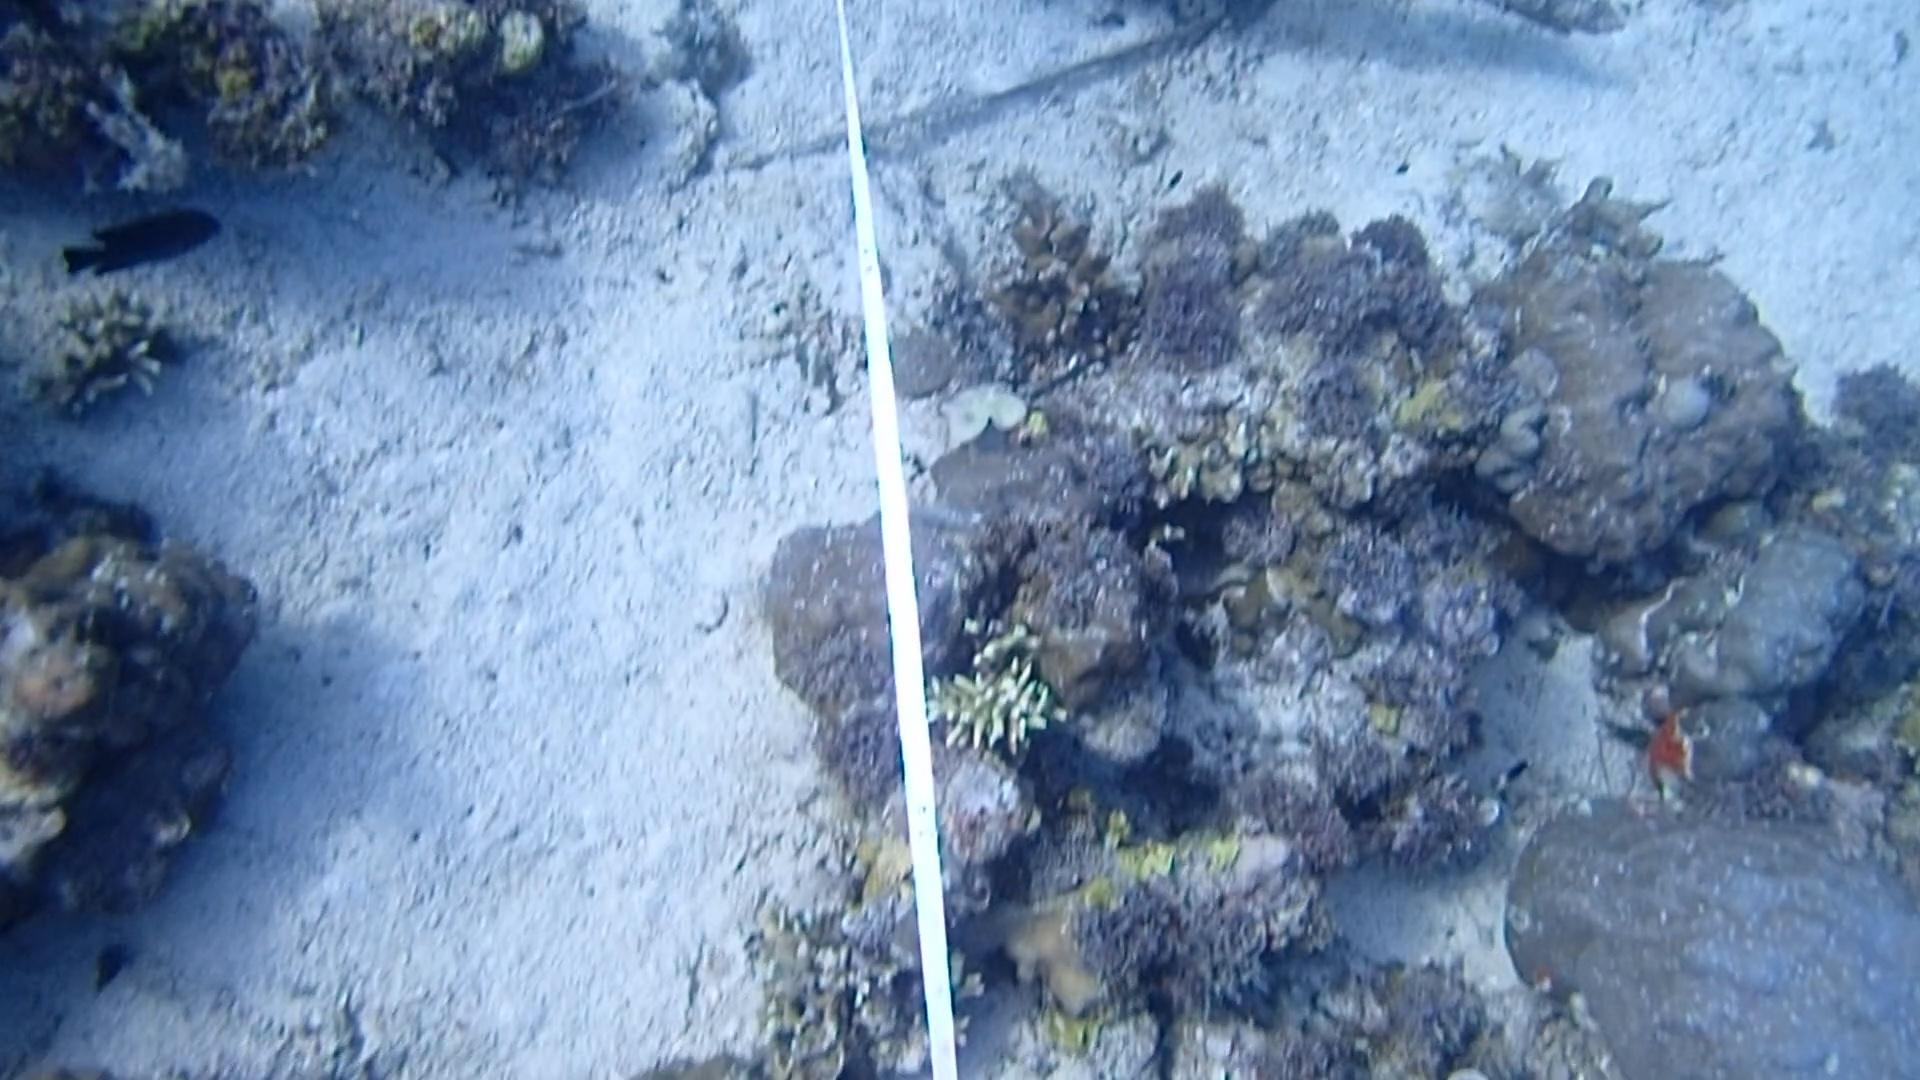Dark Fish: (63, 200, 228, 291)
